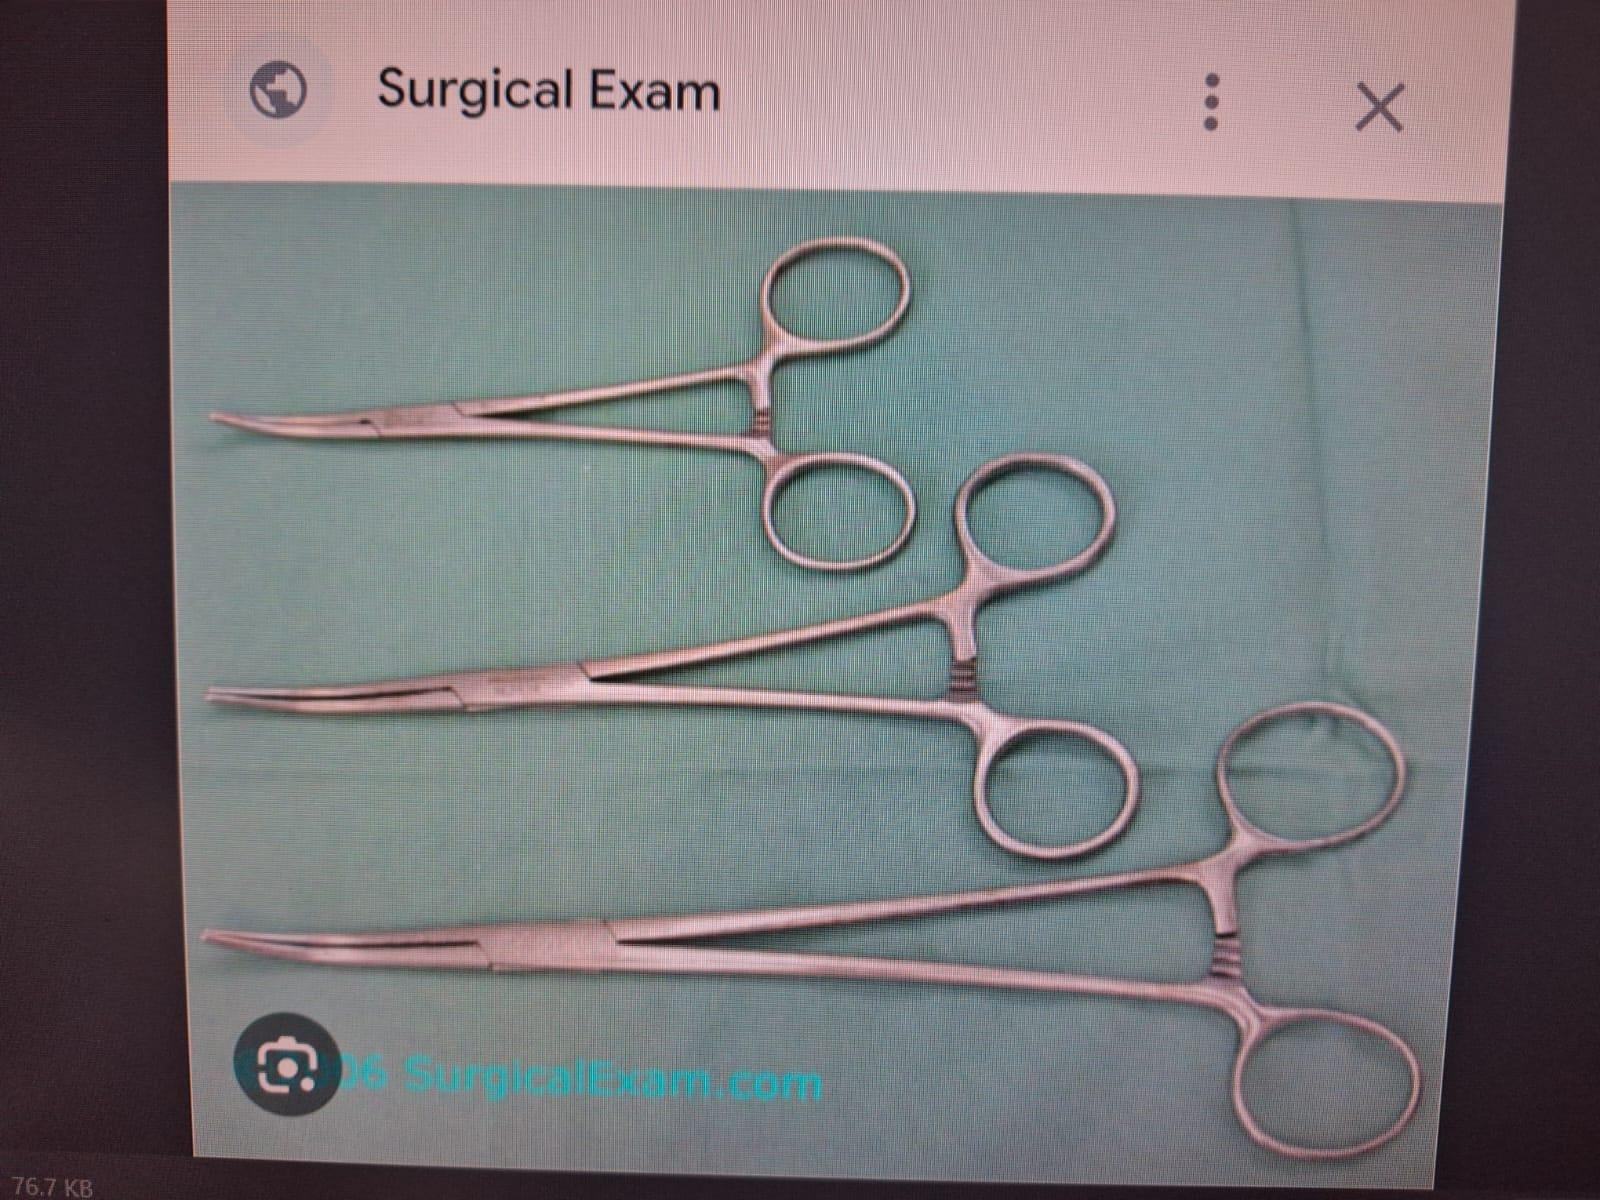Artery Forceps: (186, 695, 1453, 1184), (191, 446, 1167, 890), (197, 202, 922, 584)
